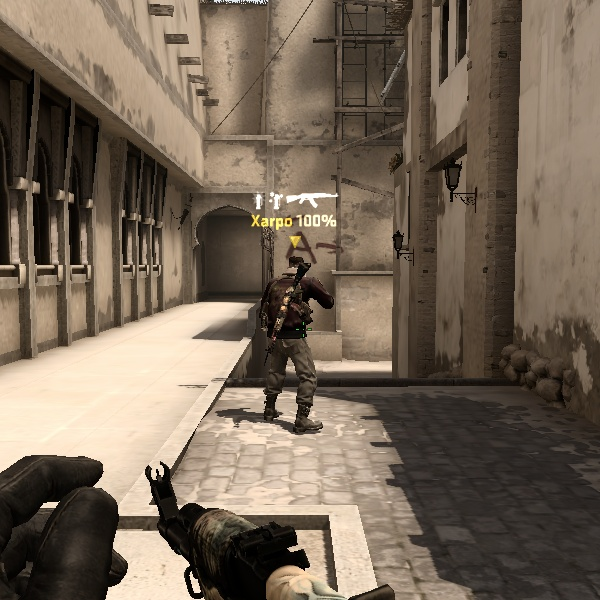t_body: (238, 252, 341, 429)
t_head: (282, 250, 316, 282)
